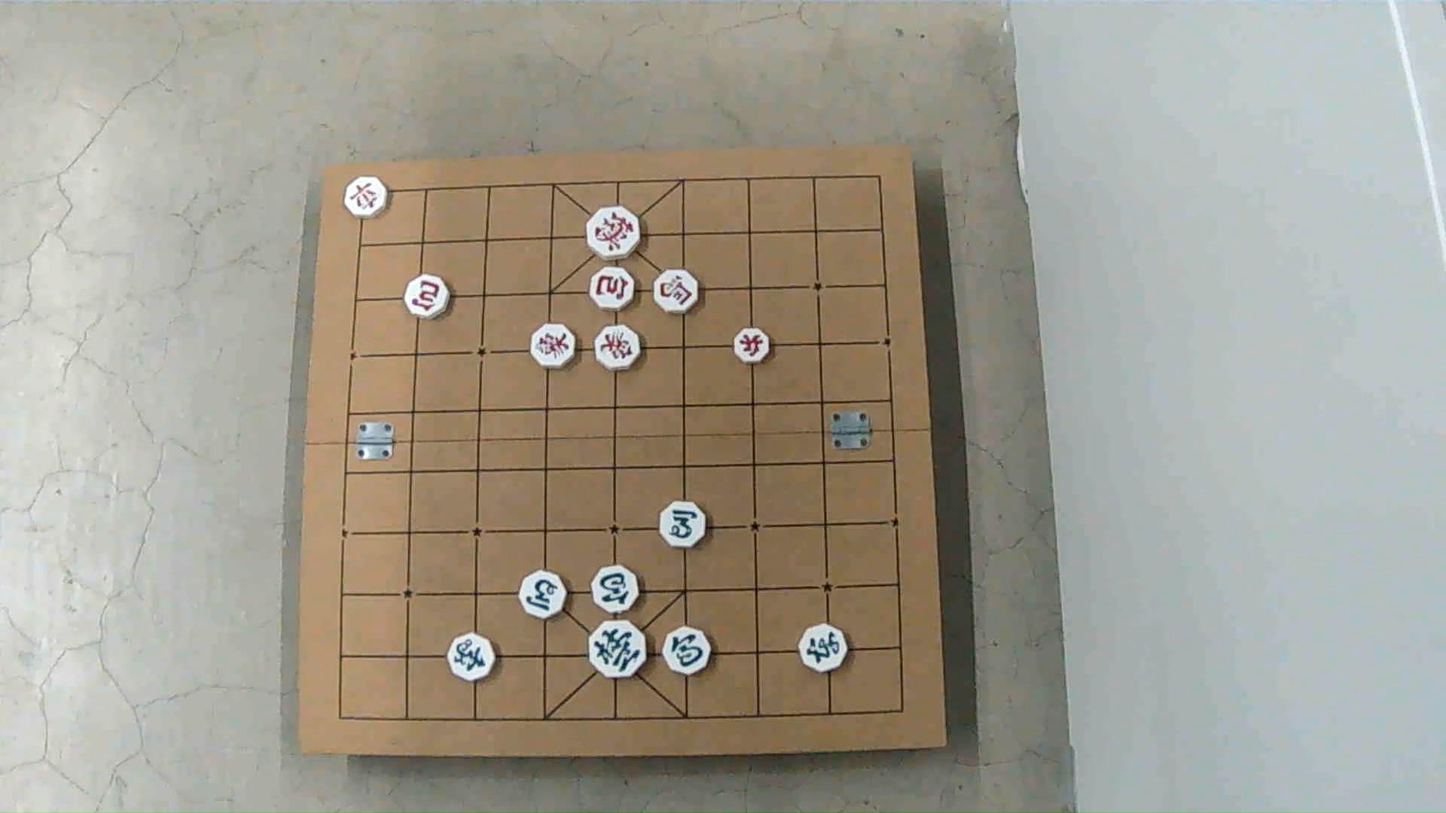cha_green: (798, 623, 847, 671)
cha_red: (346, 178, 389, 220)
jol_red: (734, 328, 770, 365)
ma_green: (519, 572, 567, 620), (660, 500, 706, 547)
ma_red: (654, 269, 700, 313)
po_green: (663, 626, 711, 674), (591, 565, 639, 612)
po_red: (590, 265, 636, 309), (404, 275, 448, 318)
sang_green: (448, 633, 496, 681)
sang_red: (596, 326, 642, 371), (533, 324, 578, 368)
wang_green: (588, 622, 647, 680)
wang_red: (588, 206, 642, 257)
